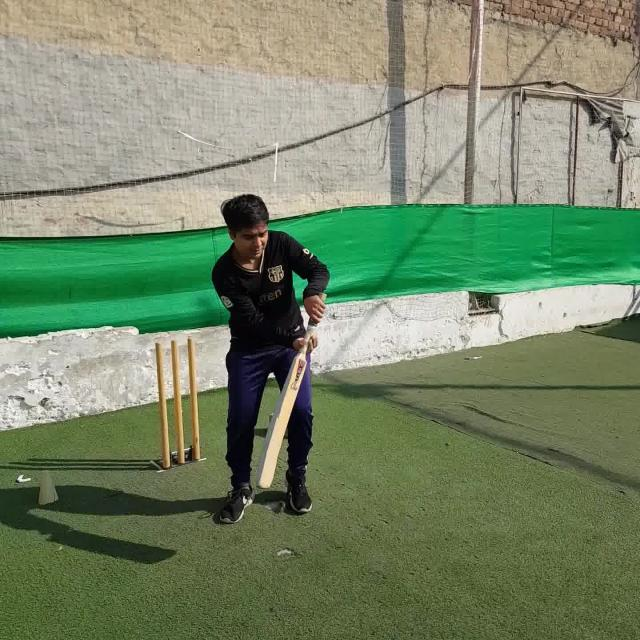bat: (253, 301, 324, 488)
